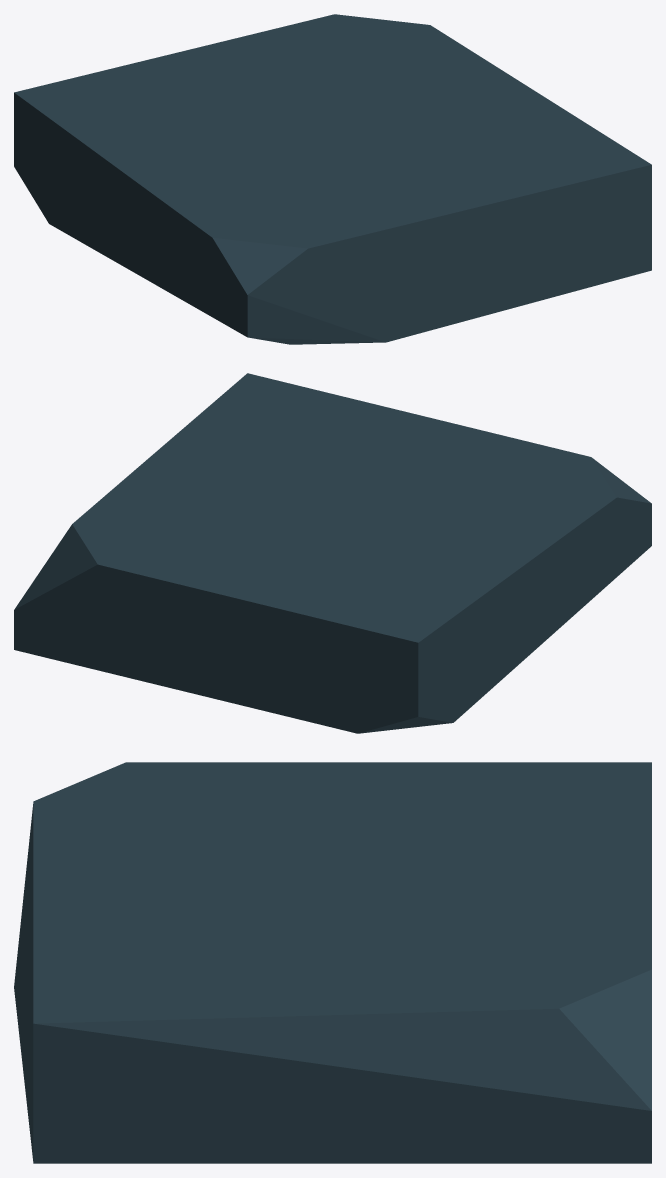
File: floor_element_1x1_one_step_high.fbx
The picture shows the model from 3 angles, top to bottom: view 1: azimuth 30°, elevation 25°; view 2: azimuth 150°, elevation 25°; view 3: azimuth 270°, elevation 25°; orthographic projection. The views are drawn at different scales.
Parts seen in each view (by area): view 1: floor_element_1x1_one_step_high; view 2: floor_element_1x1_one_step_high; view 3: floor_element_1x1_one_step_high.
Part boxes in pixels (x1,y1,x2,y2): floor_element_1x1_one_step_high: (14,14,651,344); floor_element_1x1_one_step_high: (14,373,651,733); floor_element_1x1_one_step_high: (14,762,651,1163).
Bounding box in the file's own units: 100 × 28.1 × 103.
